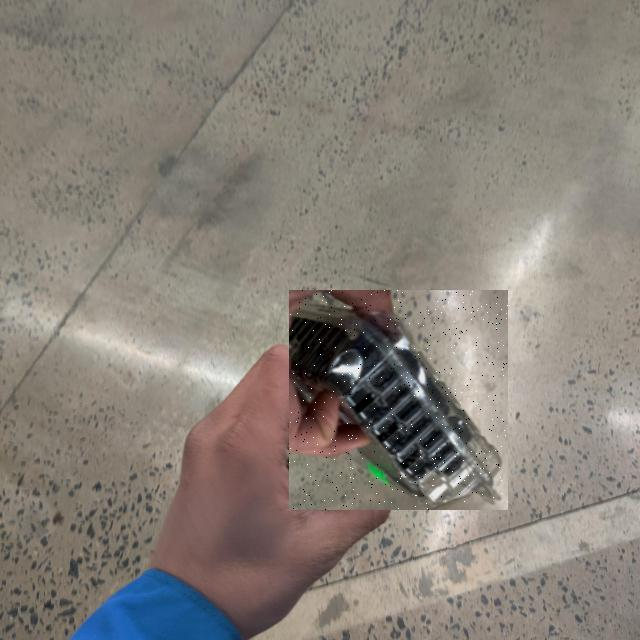Black Berries: (289, 290, 508, 510)
